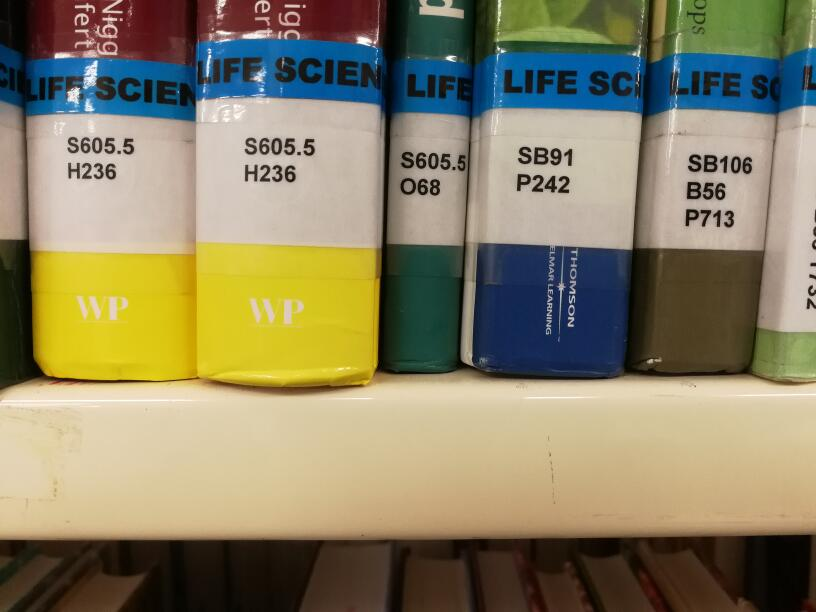booklabel: (681, 151, 753, 229), (241, 134, 315, 182), (64, 134, 136, 182), (400, 148, 466, 197), (516, 144, 574, 195)
